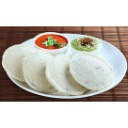idly: (47, 53, 86, 94), (70, 52, 114, 88), (25, 52, 59, 92), (2, 45, 34, 80)
